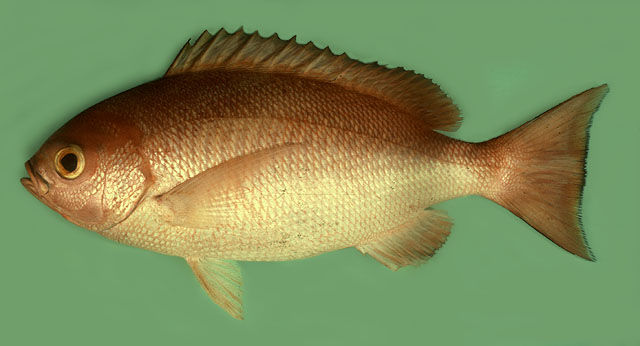fish: (21, 26, 609, 321)
